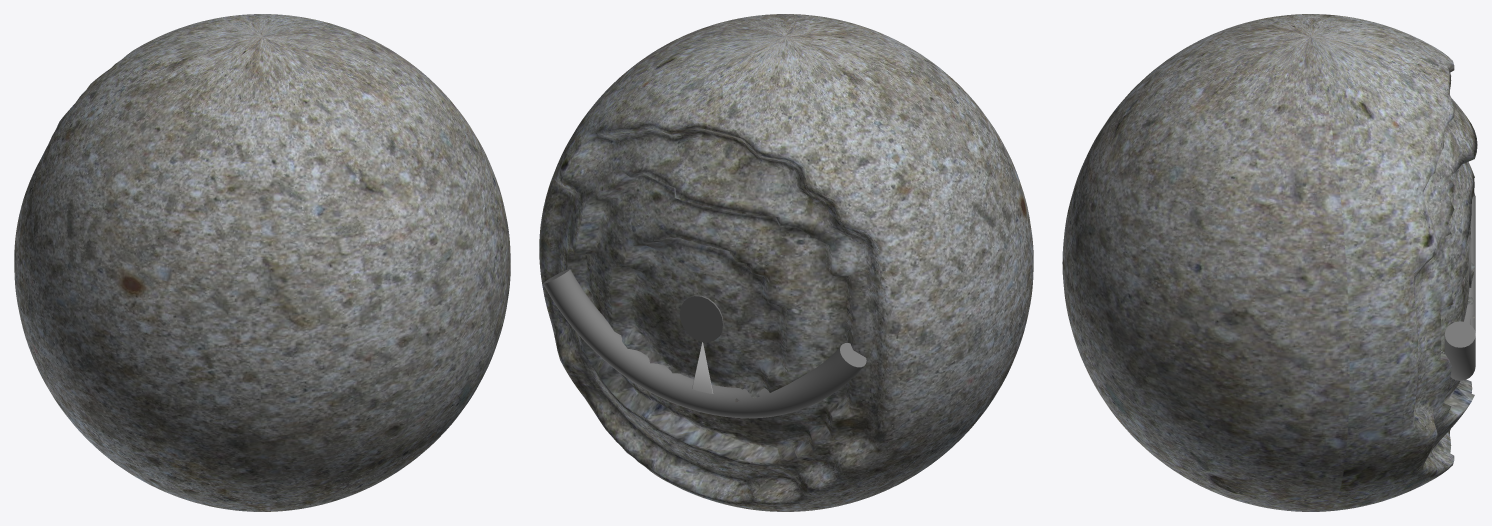
The model's file is Kugla4.fbx.
The picture shows the model from 3 angles, left to right: view 1: azimuth 30°, elevation 25°; view 2: azimuth 150°, elevation 25°; view 3: azimuth 270°, elevation 25°; orthographic projection.
Visible parts, largest first — view 1: polySurface5; view 2: polySurface5; view 3: polySurface5.
Boxes of the visible parts, <box> form: polySurface5: <box>14,14,510,511</box>; polySurface5: <box>539,14,1033,511</box>; polySurface5: <box>1062,14,1477,511</box>.
Bounding box in the file's own units: 16.64 × 16.7 × 13.9.
4 materials, 1 textured.
